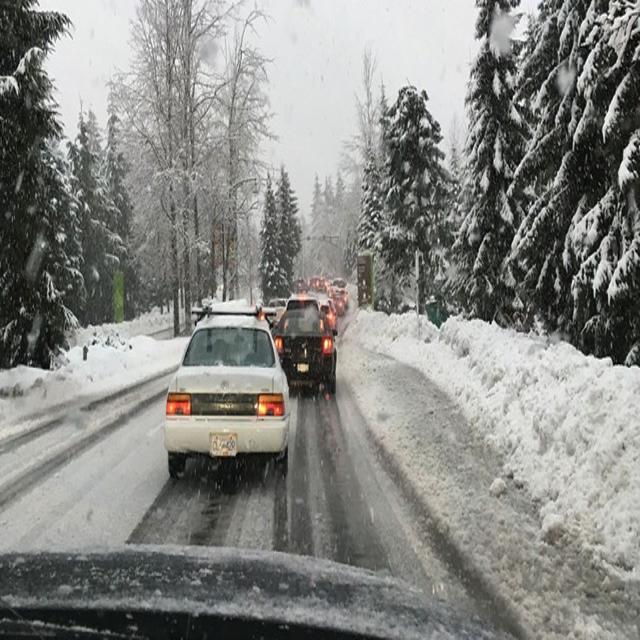car: (162, 304, 296, 478), (273, 299, 337, 399), (328, 294, 344, 316)
